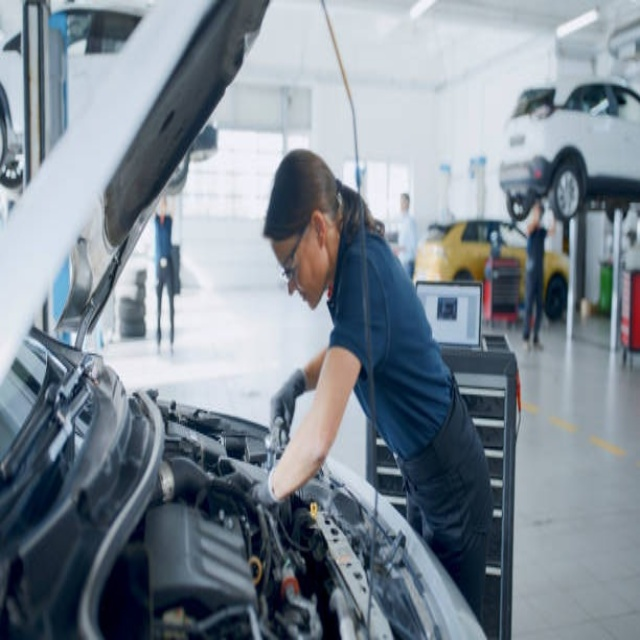Gafas: (279, 213, 315, 285)
Guantes: (269, 368, 307, 438), (249, 462, 284, 508)
Sin_mascara: (289, 285, 318, 318)
